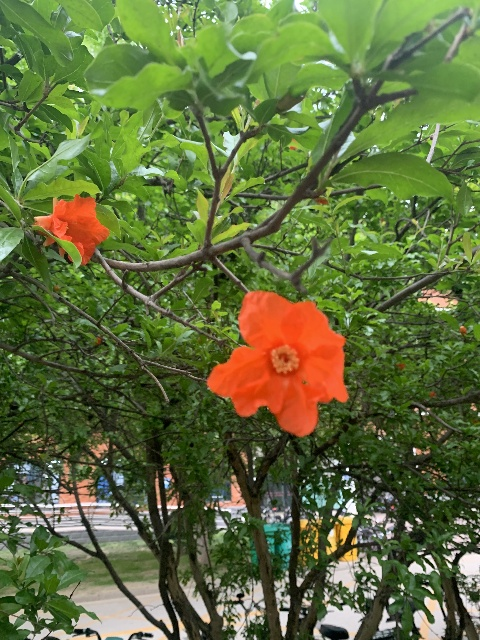bud: (459, 326, 466, 334)
flower: (206, 290, 347, 436), (31, 192, 108, 264)
